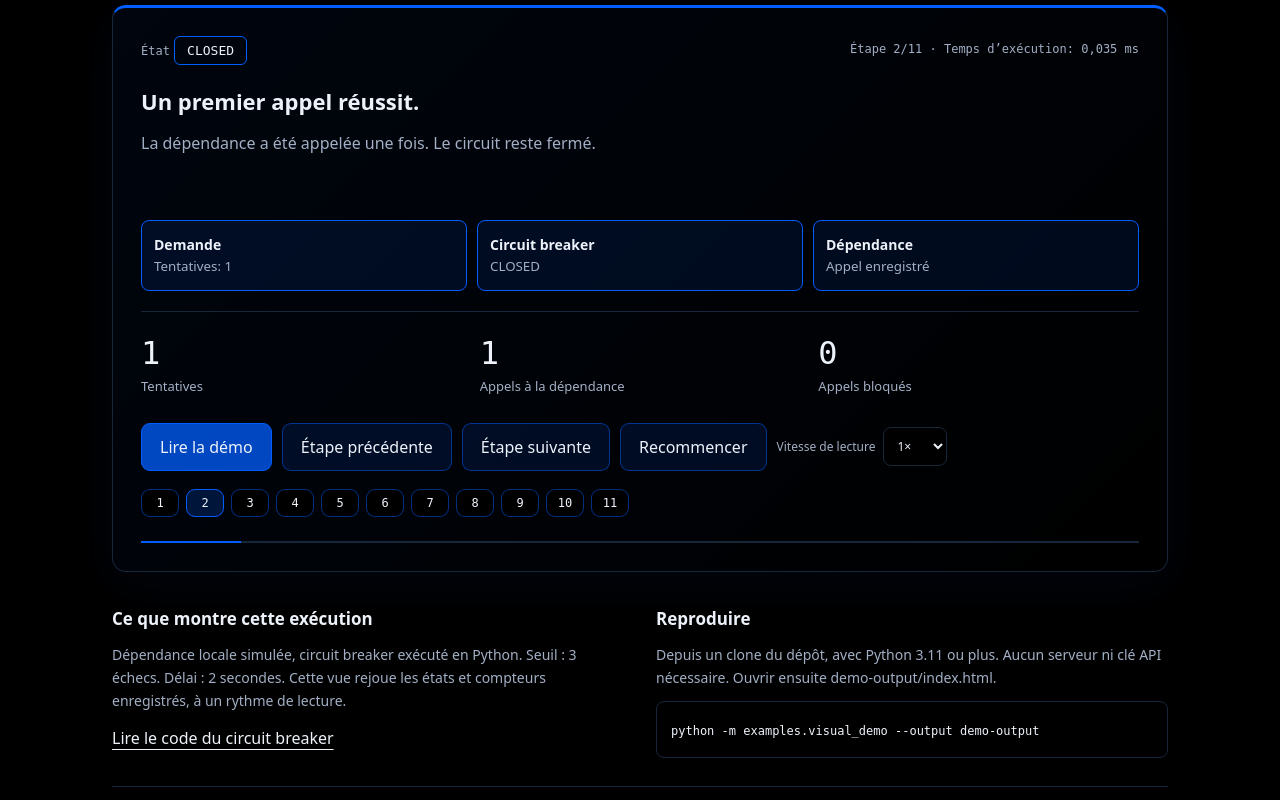
Scenario: Agent Resilience demo integration › keeps legacy circuit-only exports usable without comparison data
This screenshot has width=1280, height=800.
(page scrolled)
Click the button with id "next" at coordinates (536, 447), box [462,423,610,471]
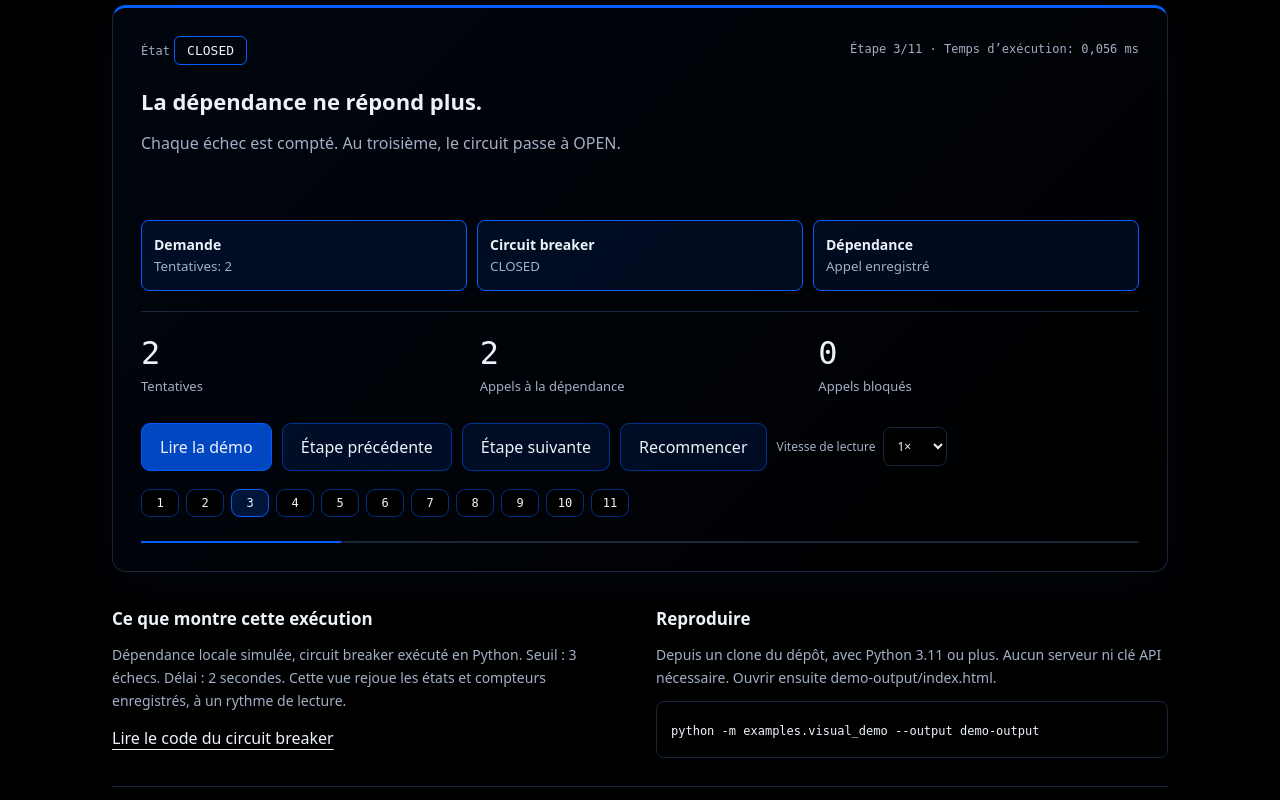
Click the button "Étape précédente" at coordinates (367, 447), box [282,423,452,471]
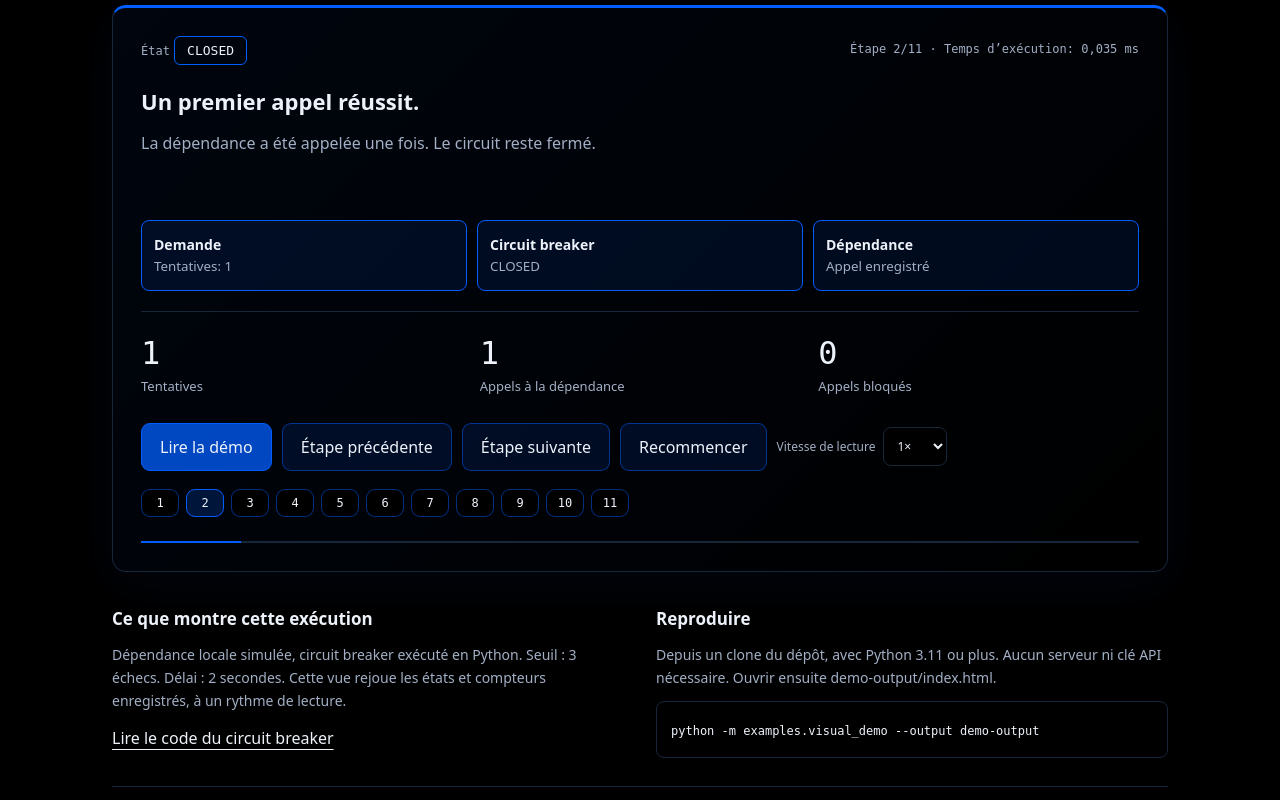
expect the text with id "step" shows "2/11": met, box [850,42,1139,56]
